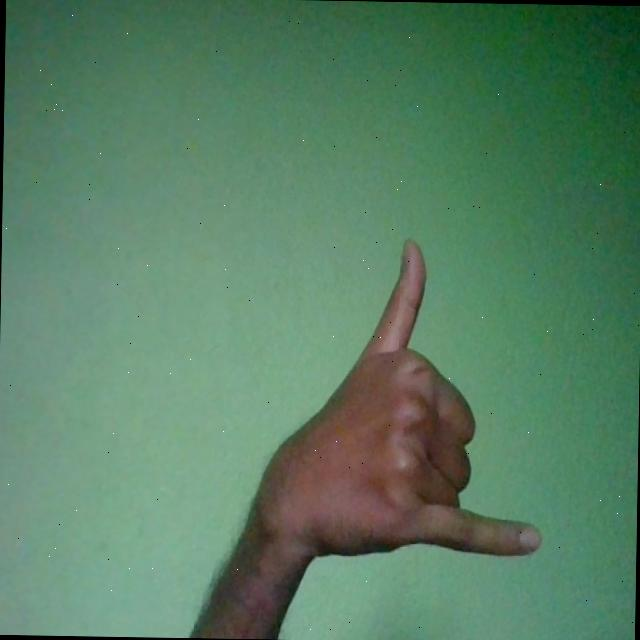Call Me: (244, 233, 548, 562)
